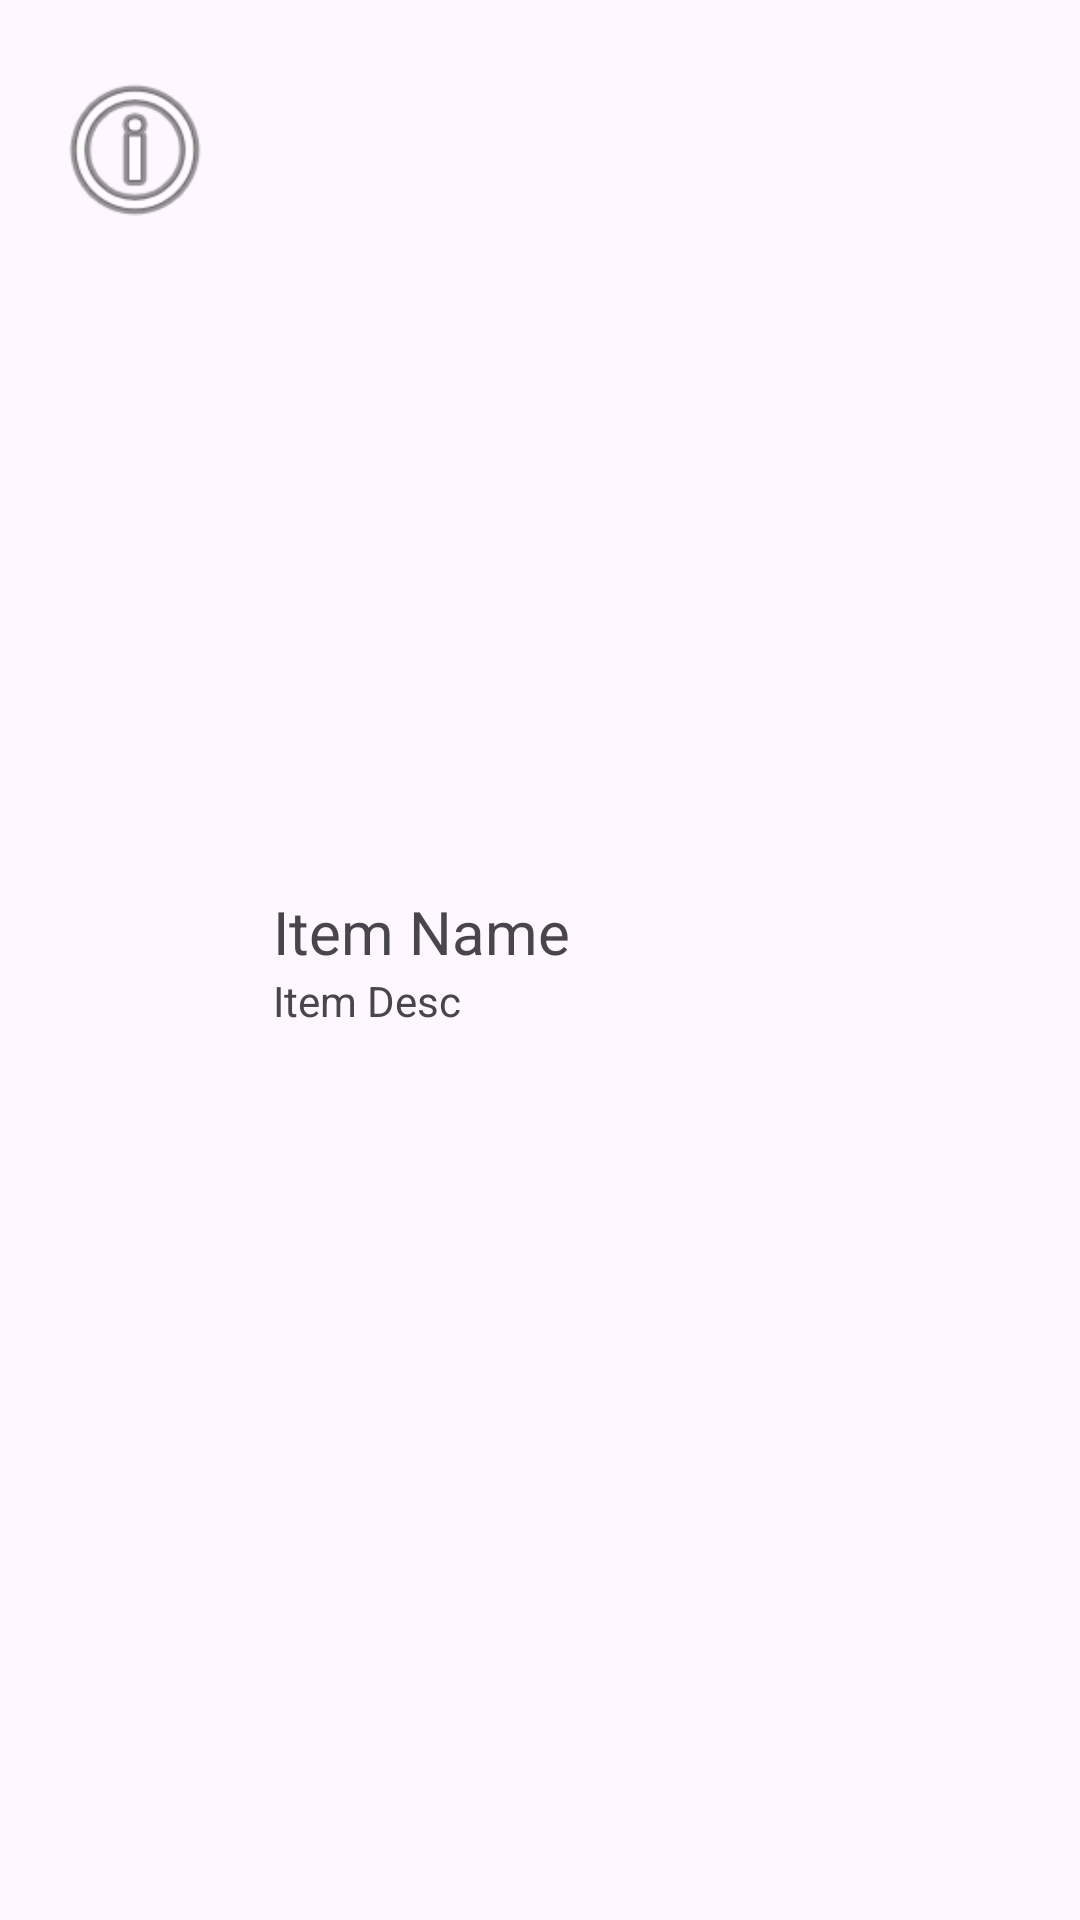

Named icons in this screenshot (1080*1920) and their bounding boxes, (x1, y1, x2, y2):
info details: (70, 85, 200, 215)
